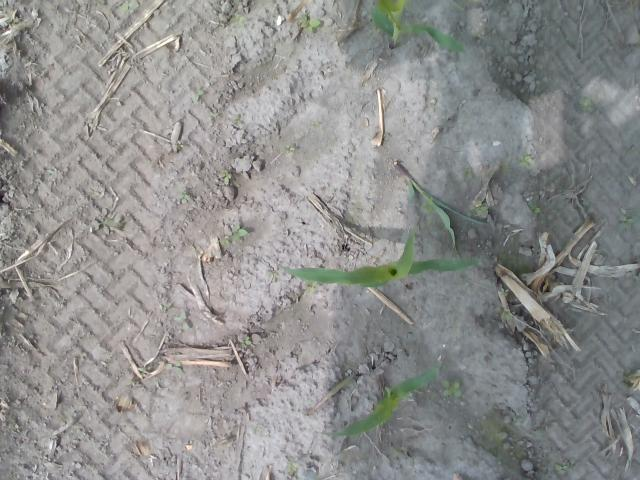Maize: (277, 228, 491, 289), (392, 160, 490, 260), (326, 360, 442, 437), (368, 0, 462, 55)
Weeds: (88, 208, 122, 235), (298, 14, 320, 32), (442, 379, 462, 397), (174, 310, 191, 331), (232, 224, 250, 242), (515, 153, 535, 167), (472, 201, 488, 216), (164, 363, 183, 375), (118, 0, 136, 12), (220, 170, 233, 186), (177, 192, 190, 205), (217, 235, 230, 246), (499, 309, 512, 320), (527, 203, 540, 214), (554, 461, 568, 470), (621, 214, 633, 224), (283, 144, 295, 154), (242, 335, 252, 347), (498, 286, 509, 296), (234, 14, 244, 24)
